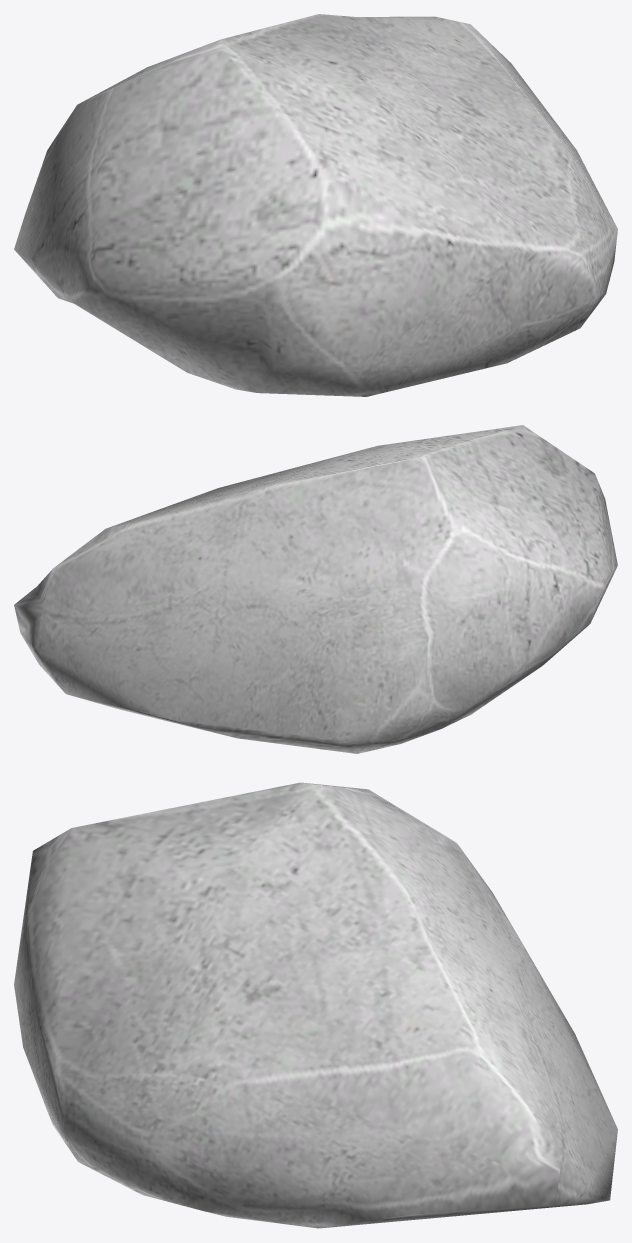
File: campfire_rocks001.fbx
3 views of the same model, one above another, from view 1: azimuth 30°, elevation 25°; view 2: azimuth 150°, elevation 25°; view 3: azimuth 270°, elevation 25° (orthographic). The views are drawn at different scales.
Visible parts, largest first — view 1: campfire_rocks001; view 2: campfire_rocks001; view 3: campfire_rocks001.
Part boxes in pixels (x1=…): campfire_rocks001: x1=14, y1=14, x2=617, y2=396; campfire_rocks001: x1=14, y1=425, x2=617, y2=753; campfire_rocks001: x1=14, y1=782, x2=617, y2=1228.
Size of the model in its own units: 96.3 by 44.97 by 87.5.
